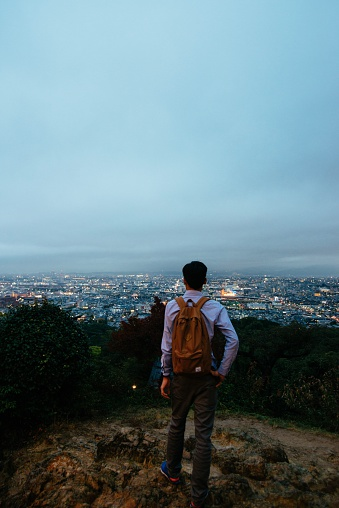em pe: (143, 253, 233, 489)
